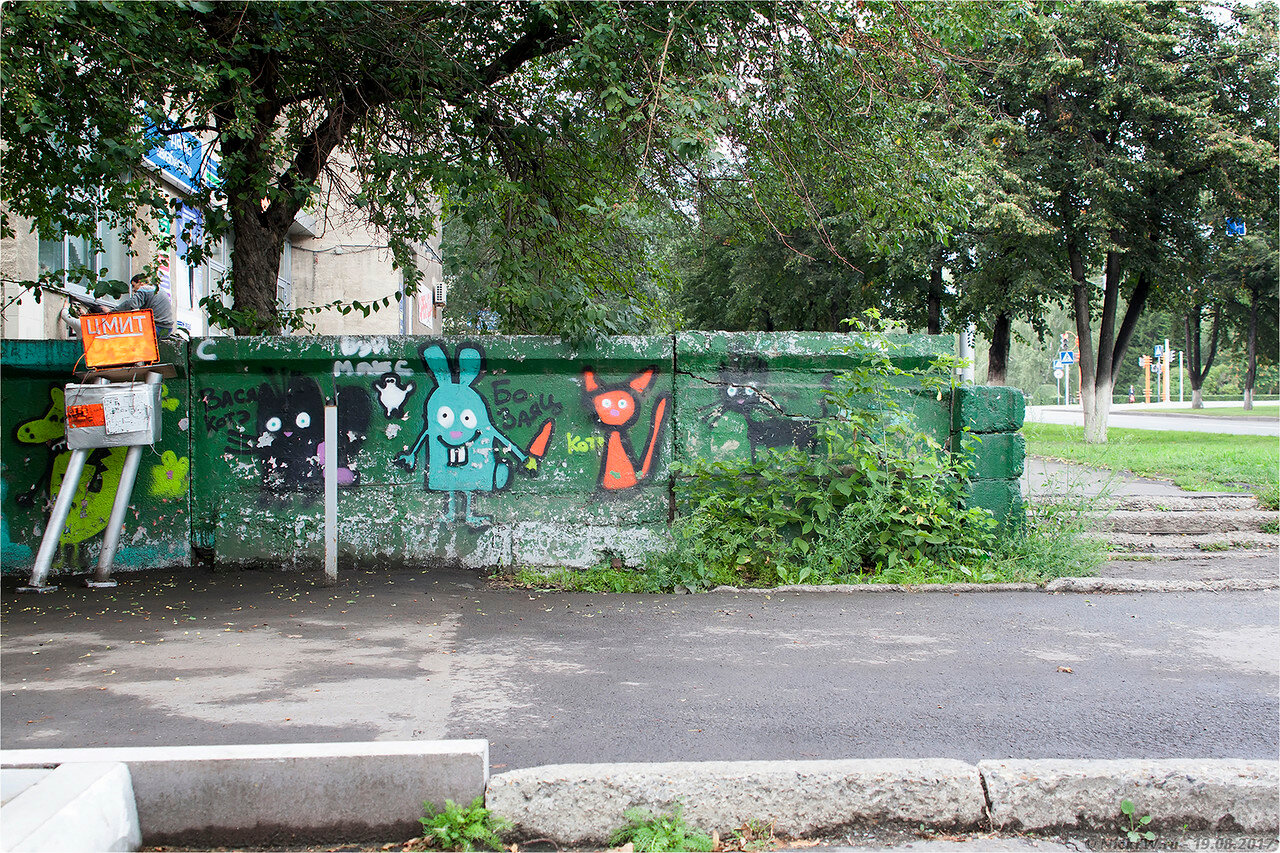graphite: (400, 345, 678, 493), (205, 373, 399, 503), (27, 395, 135, 555), (707, 357, 830, 472), (495, 379, 580, 430), (197, 374, 259, 433)
